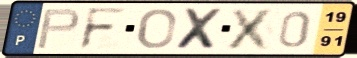0: (276, 10, 316, 49)
F: (77, 6, 130, 51)
O: (136, 7, 178, 50)
P: (34, 7, 82, 50)
X: (223, 7, 280, 51), (173, 6, 227, 51)
